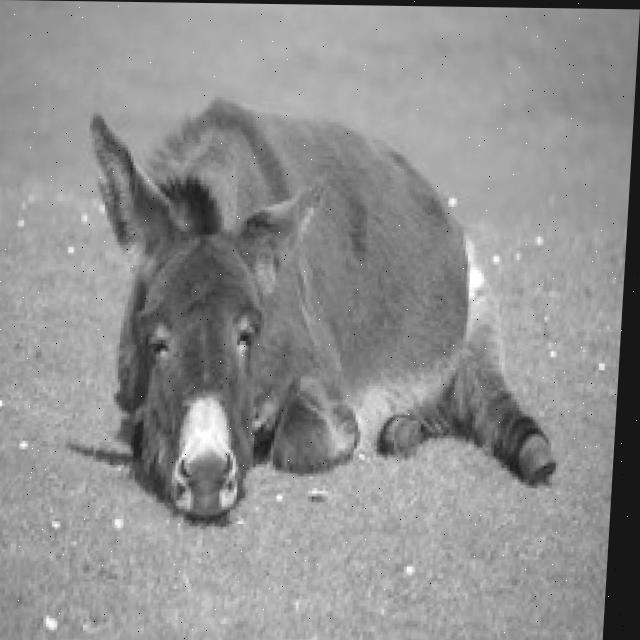Donkey: (64, 93, 577, 526)
